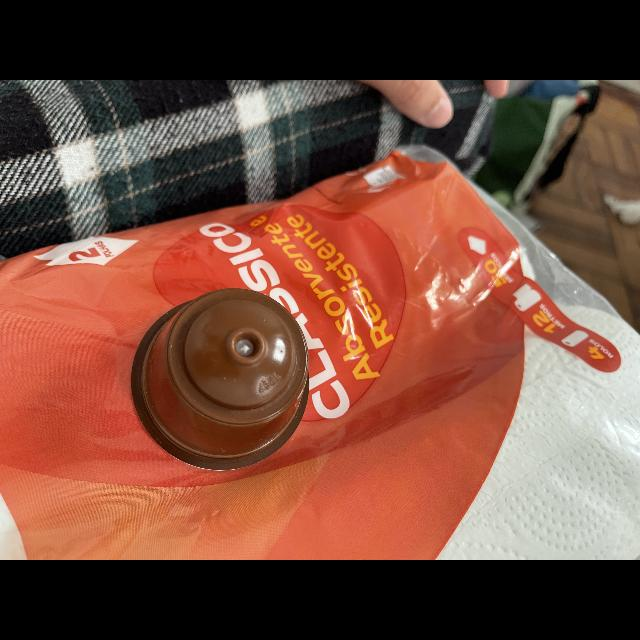intact_capsule: (120, 282, 326, 476)
